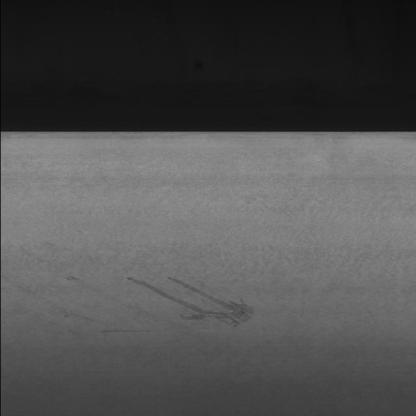water_spot: (105, 270, 262, 338)
